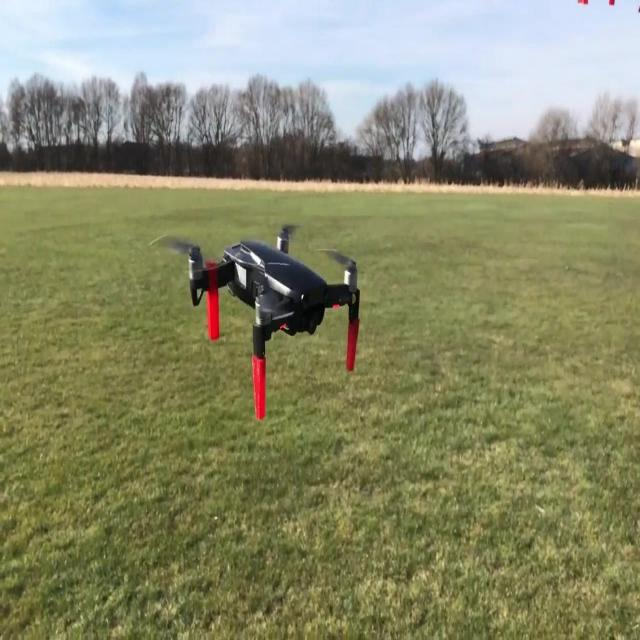UAV: (156, 222, 360, 422)
